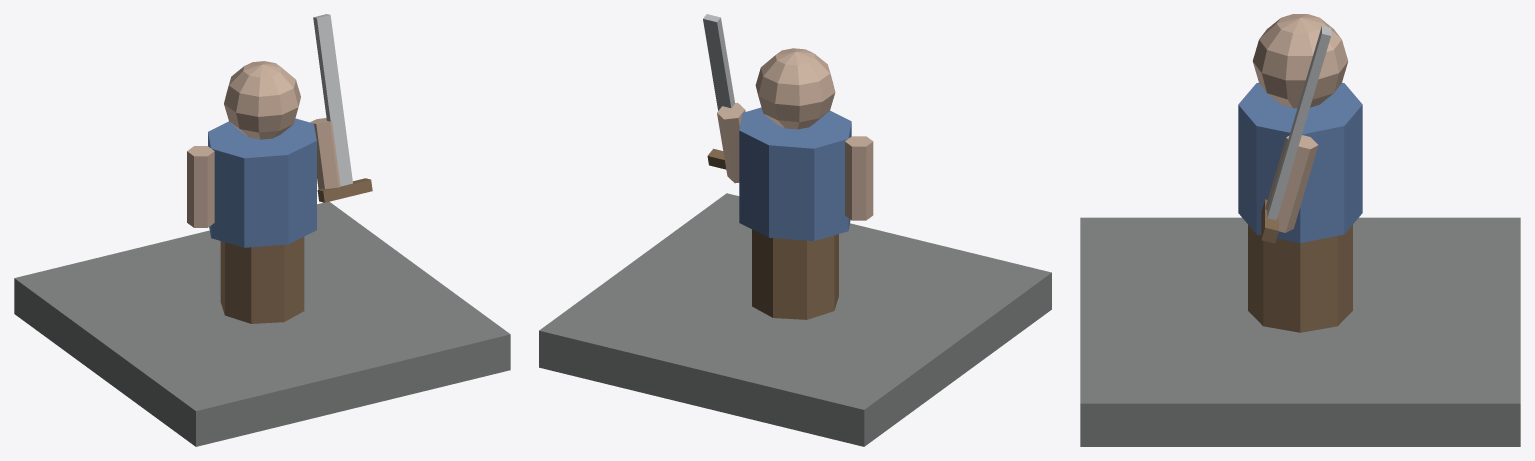
The model's file is human_swordsman.glb.
3 views of the same model, side by side, from view 1: azimuth 30°, elevation 25°; view 2: azimuth 150°, elevation 25°; view 3: azimuth 270°, elevation 25° (orthographic). The views are drawn at different scales.
Parts seen in each view (by area): view 1: Base, TurretMesh, SwordArmMesh; view 2: Base, TurretMesh, SwordArmMesh; view 3: Base, TurretMesh, SwordArmMesh.
Part boxes in pixels (x1=…): Base: x1=14, y1=201, x2=510, y2=446; TurretMesh: x1=187, y1=61, x2=316, y2=323; SwordArmMesh: x1=310, y1=14, x2=372, y2=202; Base: x1=539, y1=193, x2=1051, y2=446; TurretMesh: x1=739, y1=48, x2=873, y2=319; SwordArmMesh: x1=703, y1=14, x2=745, y2=183; Base: x1=1080, y1=217, x2=1520, y2=446; TurretMesh: x1=1238, y1=14, x2=1362, y2=332; SwordArmMesh: x1=1261, y1=26, x2=1331, y2=243.
Bounding box in the file's own units: 1.84 × 1.69 × 1.84.
